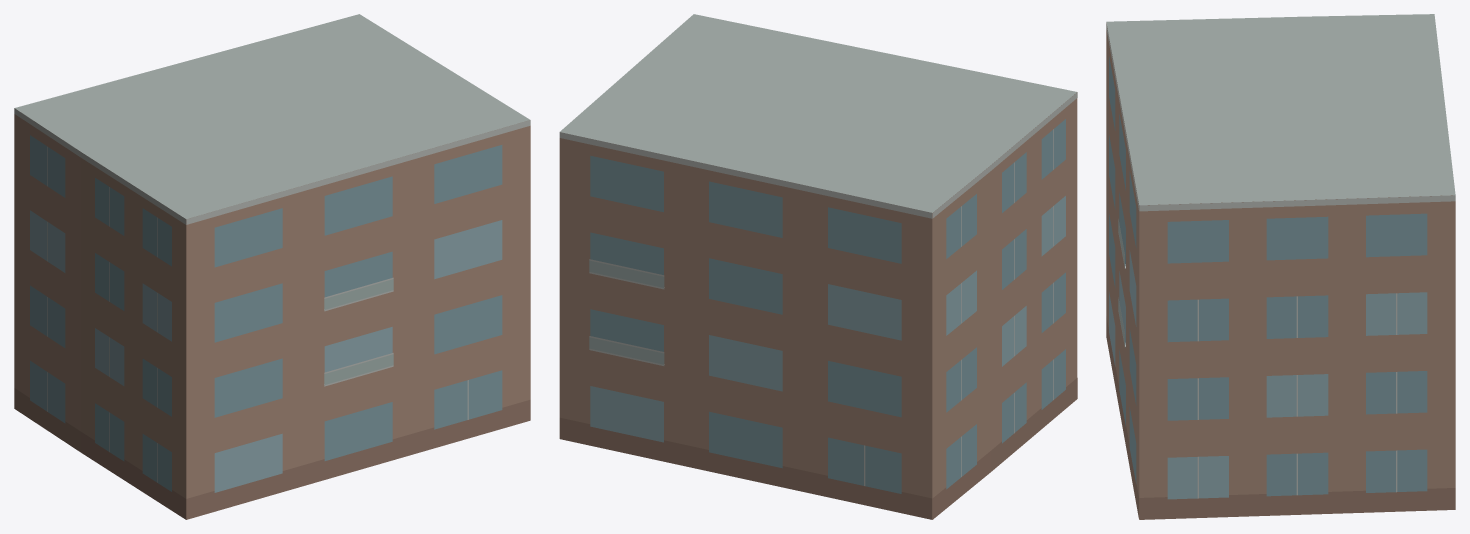
The model's file is survey-upis-32750739.glb.
3 views of the same model, side by side, from view 1: azimuth 30°, elevation 25°; view 2: azimuth 150°, elevation 25°; view 3: azimuth 270°, elevation 25° (orthographic). The views are drawn at different scales.
Parts seen in each view (by area): view 1: survey-upis-32750739.tmp; view 2: survey-upis-32750739.tmp; view 3: survey-upis-32750739.tmp.
Part boxes in pixels (<box>): survey-upis-32750739.tmp: <box>14,14,530,519</box>; survey-upis-32750739.tmp: <box>559,14,1077,519</box>; survey-upis-32750739.tmp: <box>1106,14,1455,519</box>.
Size of the model in its own units: 16.58 by 12.7 by 12.8.
